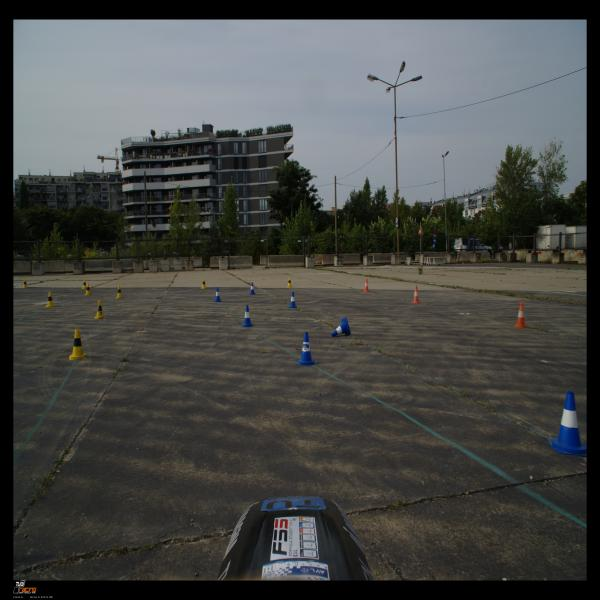blue_cone: (548, 391, 586, 457), (296, 332, 317, 366), (332, 318, 351, 337), (240, 305, 254, 327), (287, 292, 298, 308), (214, 287, 222, 302), (249, 282, 256, 295)
orange_cone: (512, 302, 528, 329), (412, 286, 422, 303), (363, 278, 370, 292)
yellow_cone: (69, 329, 86, 360), (94, 300, 106, 319), (46, 292, 55, 307), (115, 286, 124, 299), (84, 284, 92, 296), (200, 278, 208, 289), (287, 277, 293, 287), (22, 279, 28, 288), (82, 280, 87, 290)
